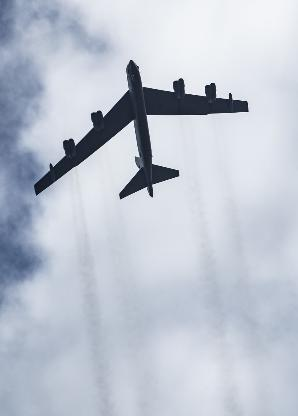B2: (33, 59, 247, 199)
